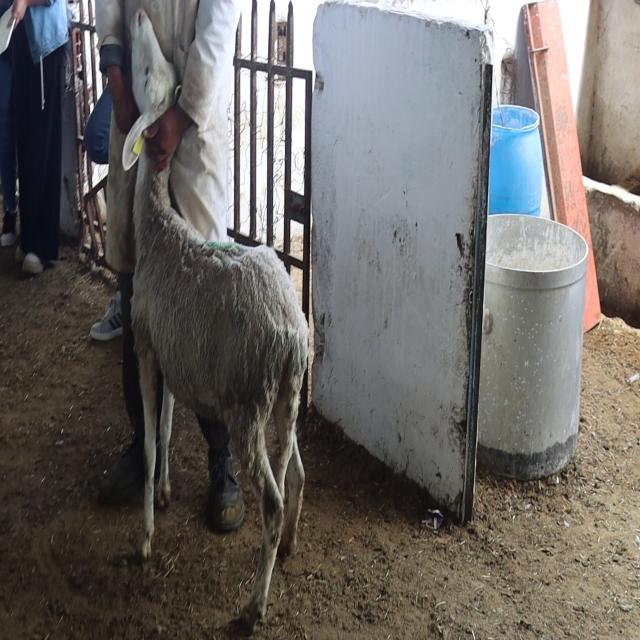Score_1: (122, 9, 309, 630)
